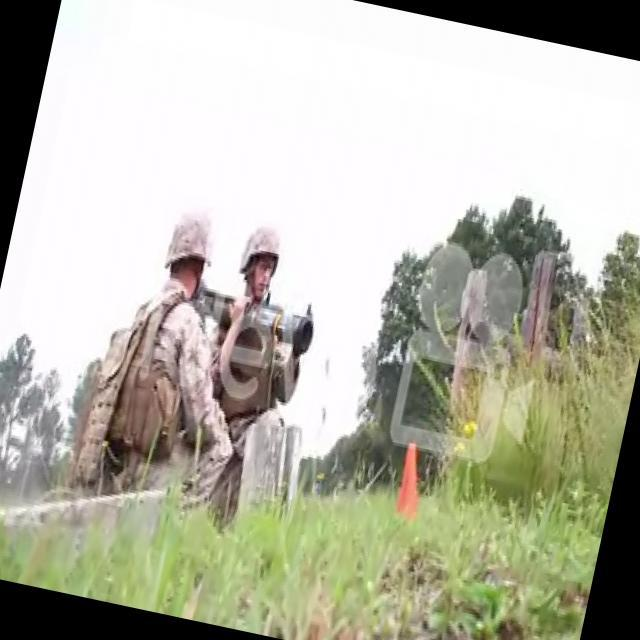rocket: (199, 288, 318, 358)
